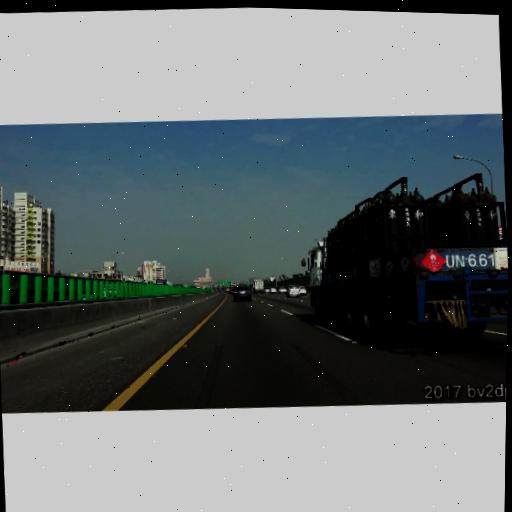Car: (303, 163, 510, 348), (233, 286, 252, 302), (285, 284, 301, 298), (252, 280, 264, 295), (298, 286, 307, 295), (278, 288, 286, 294), (270, 288, 277, 294), (264, 287, 270, 293)
